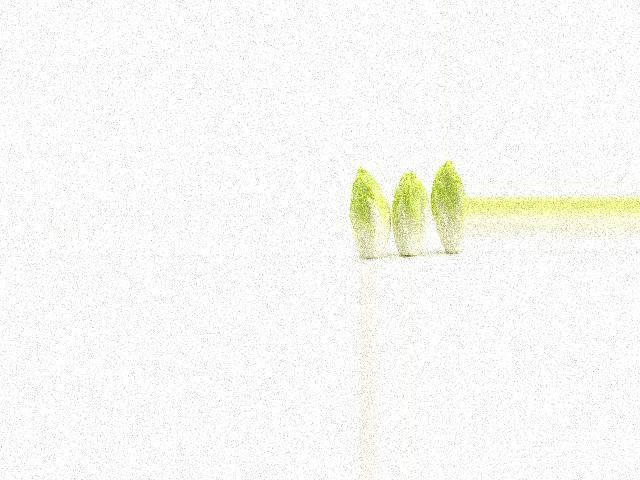lettuce: (349, 165, 389, 262)
